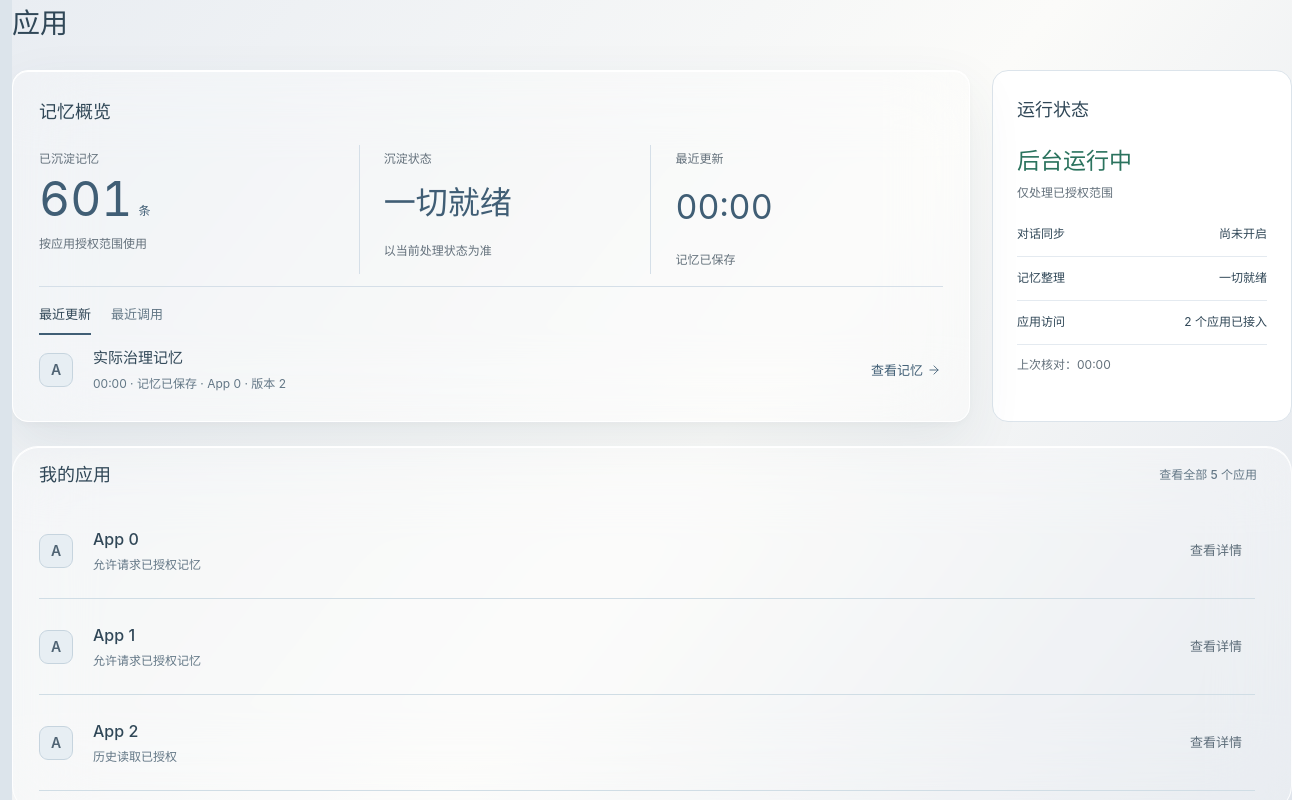
Test case: keeps source to host direction for raw hits with a source
Click the tab "最近调用": (137, 318) [111,300,163,336]
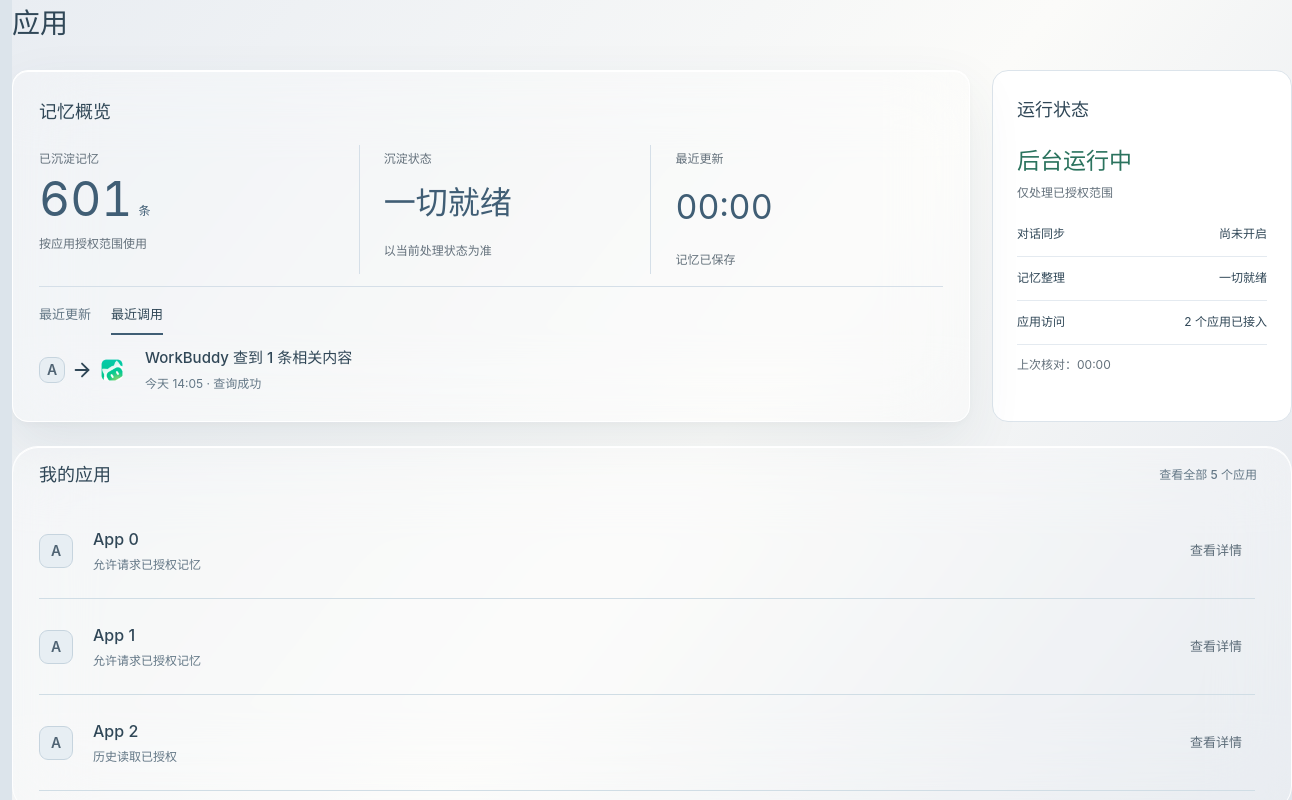
Expected: the icon is shown, [71,359,93,381]
Now the heading "WorkBuddy 查到 1 条相关内容" is shown, box [145,349,352,368]
Now the number of pictures is 1, box [99,357,125,383]
